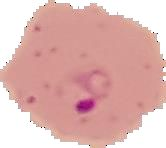parasitized: (62, 64, 118, 121)
